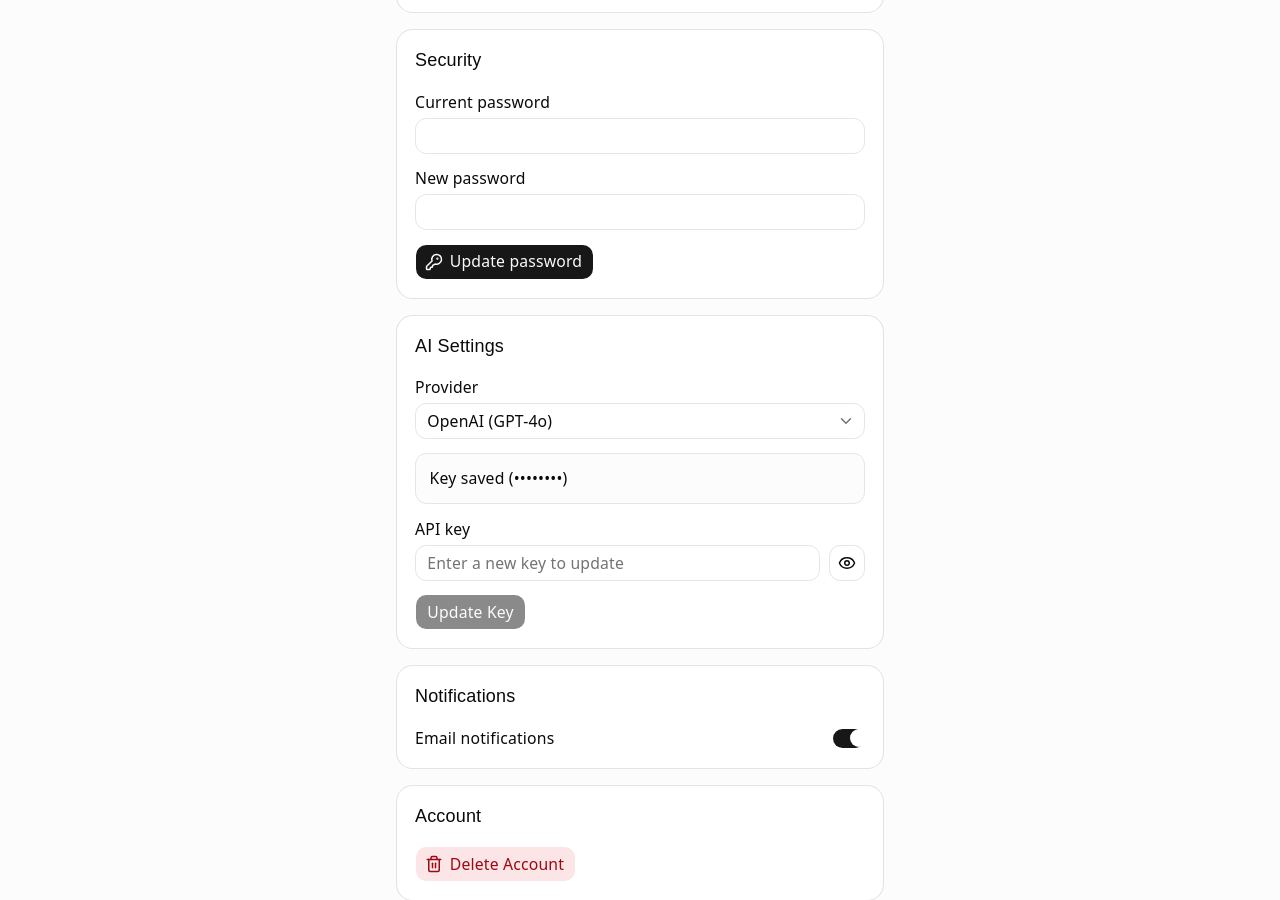
SettingsPage › opens and cancels the delete account dialog
(page scrolled)
Click the button "Delete Account" at (496, 864), box [415,846,576,882]
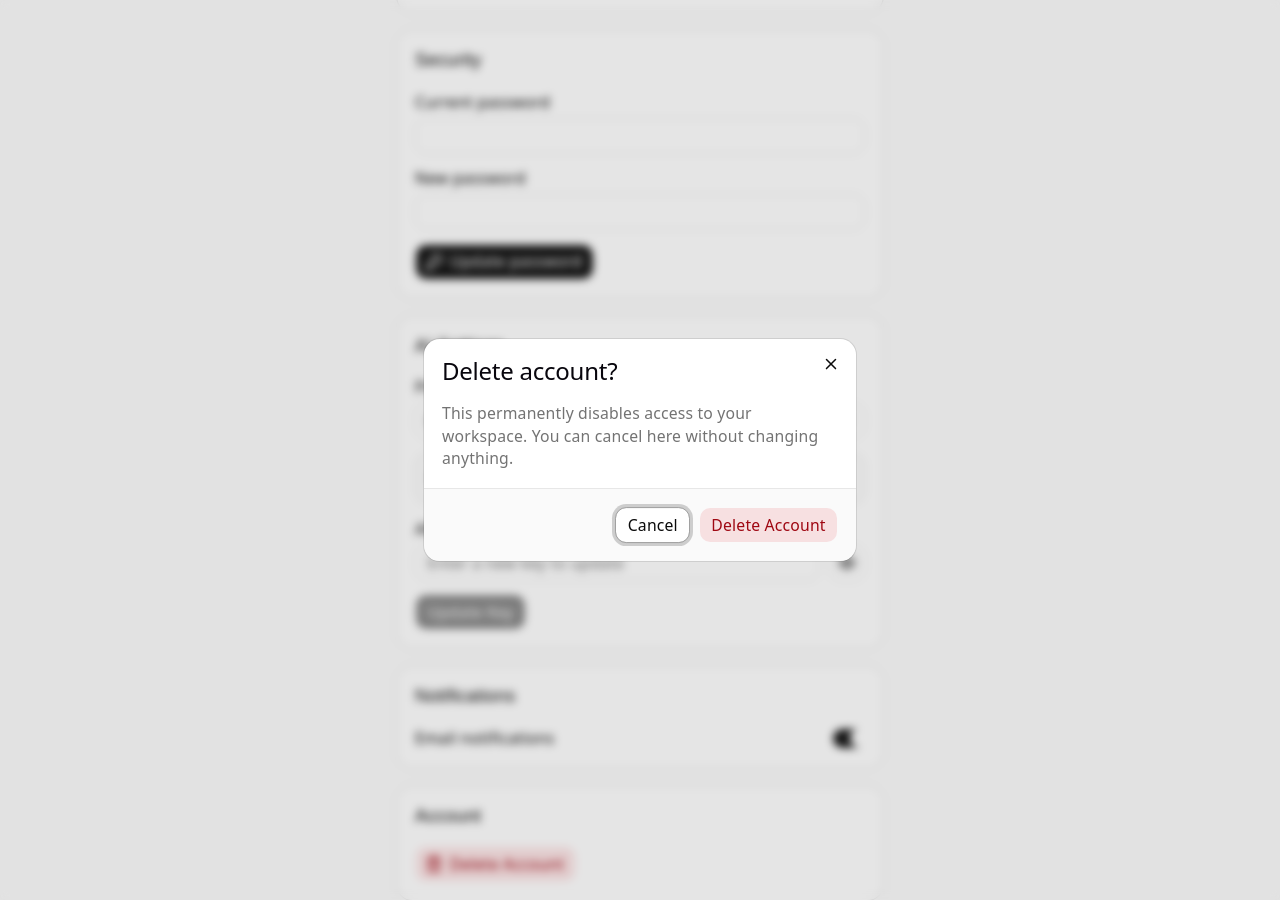
Expected: the dialog is shown, [424,339,856,561]
Click the button "Cancel" at (653, 525), box [616,507,690,543]
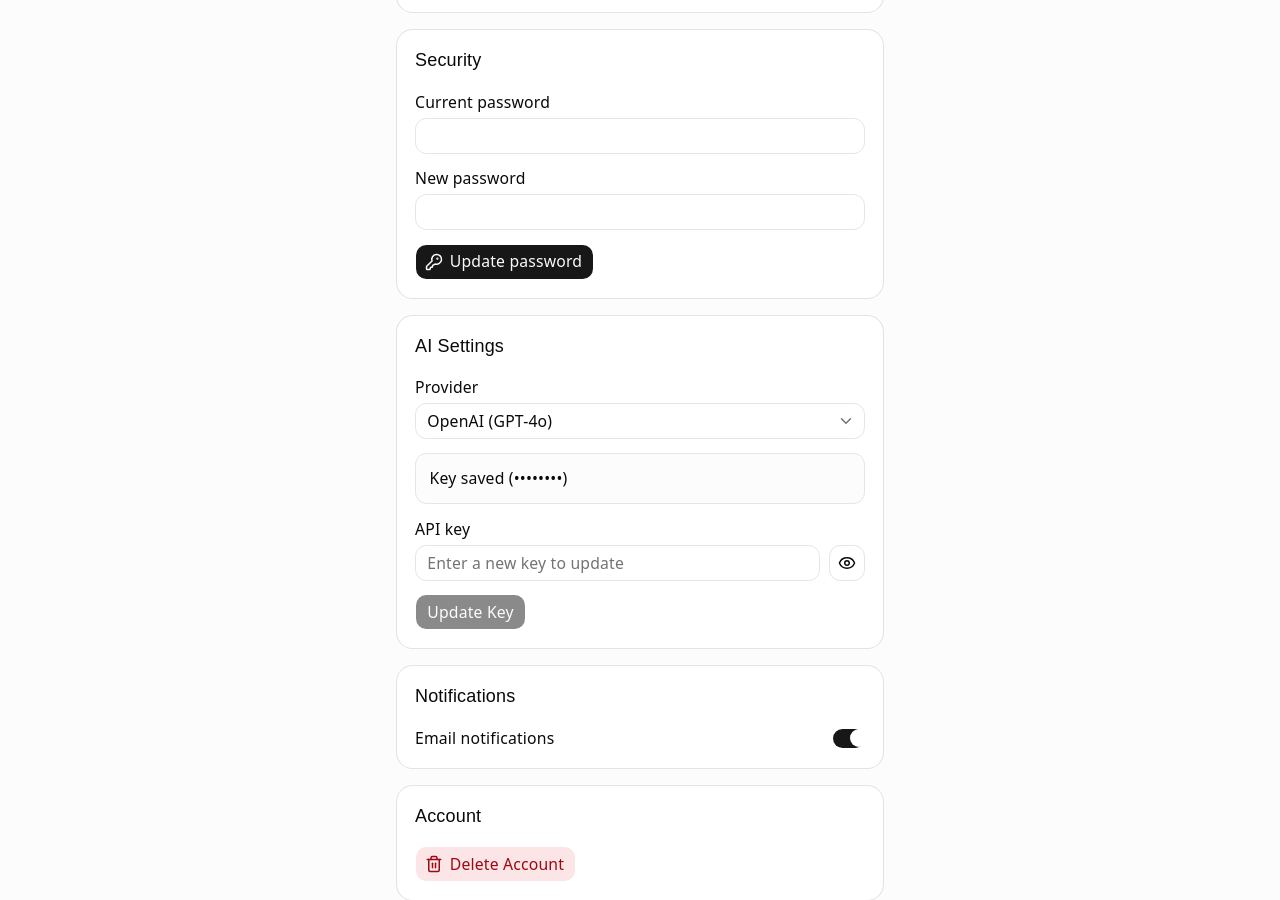
Expected: the dialog is gone
